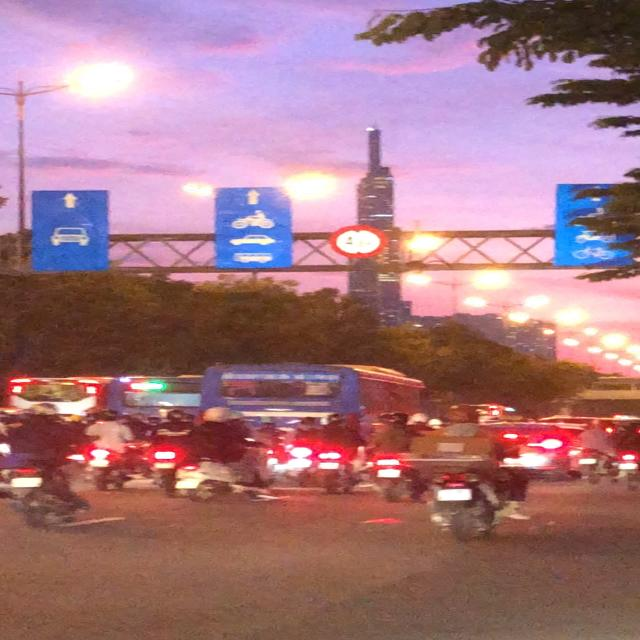Bien bao han che chieu cao: (325, 216, 392, 262)
